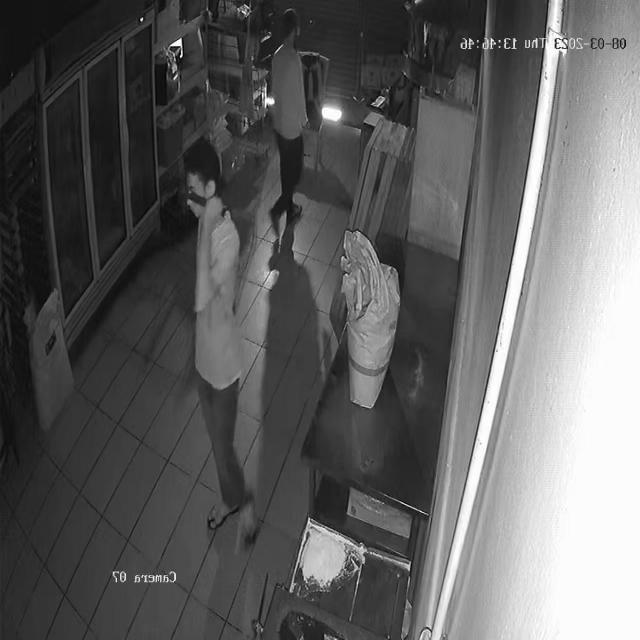Knife: (186, 183, 237, 229)
